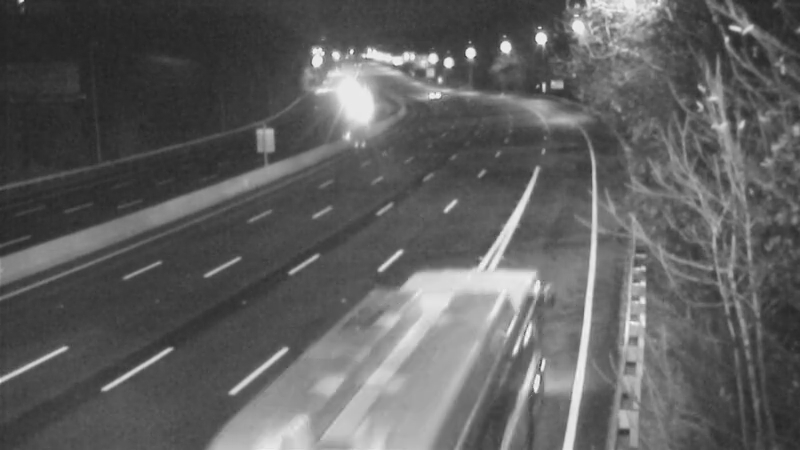vehicle: (362, 288, 472, 398), (404, 67, 454, 117), (328, 83, 378, 133)
